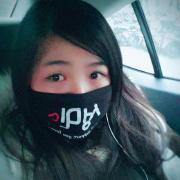OK: (28, 56, 117, 145)
